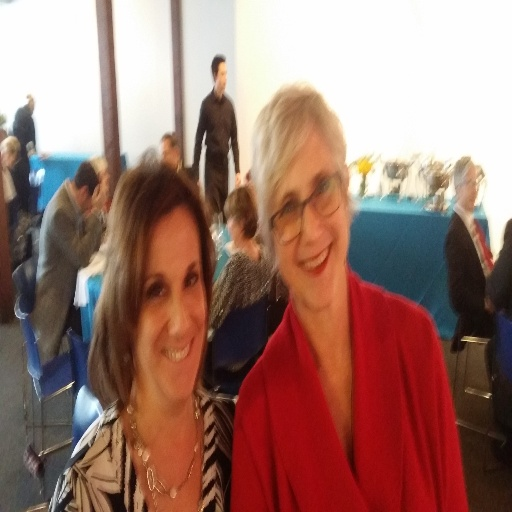hand: (91, 181, 107, 211), (233, 170, 241, 188)
